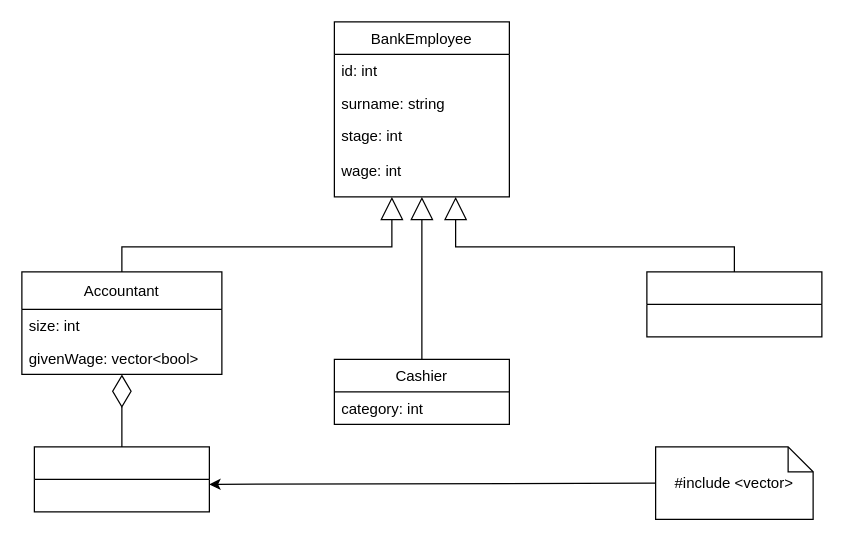
The diagram is 844 pixels wide and 541 high, and some of its shapes have lost their labels. Here are the shapes that lost their labels. From the top down, the box of each, then its label:
(646, 271, 822, 337): Operationist
(33, 446, 209, 512): vector
